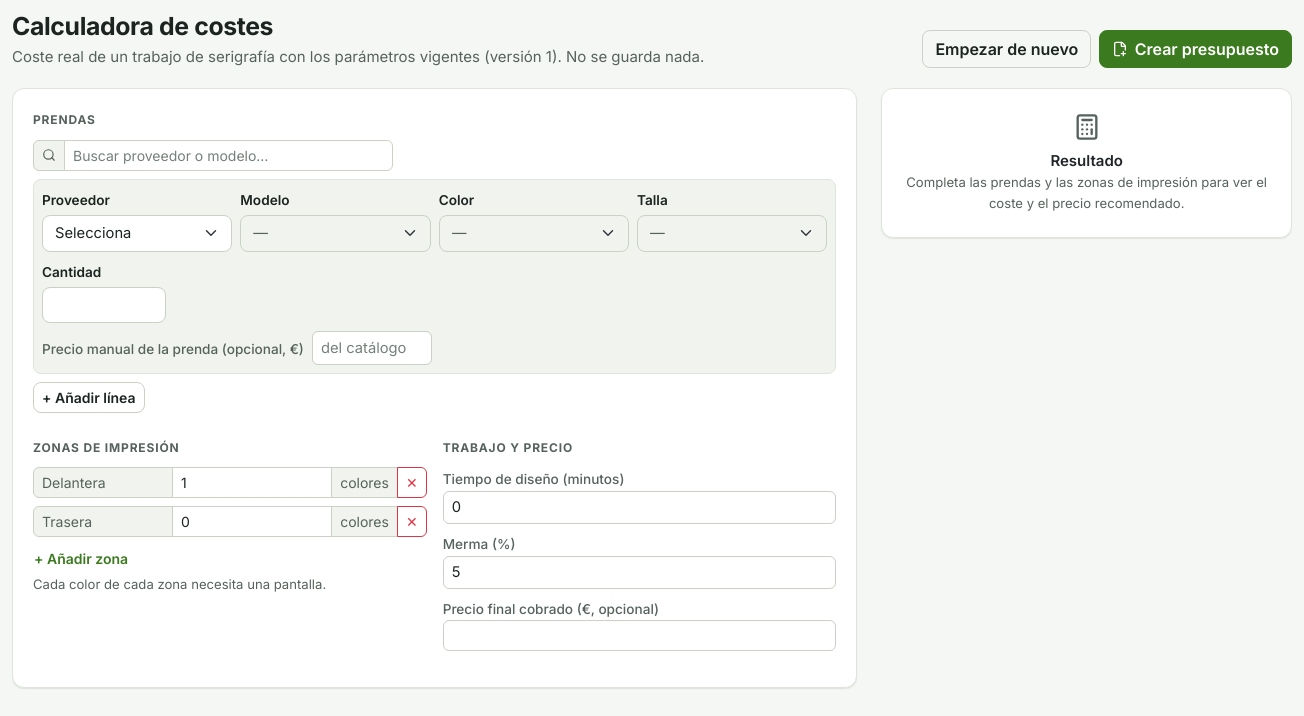
it: de la calculadora a un presupuesto nuevo › con la calculadora vacía abre un presupuesto vacío, sin avisos
Expected: the text "versión 1" is shown, [12, 47, 704, 66]
Click the button "Crear presupuesto".
click(1196, 49)  # box [1099, 30, 1292, 68]
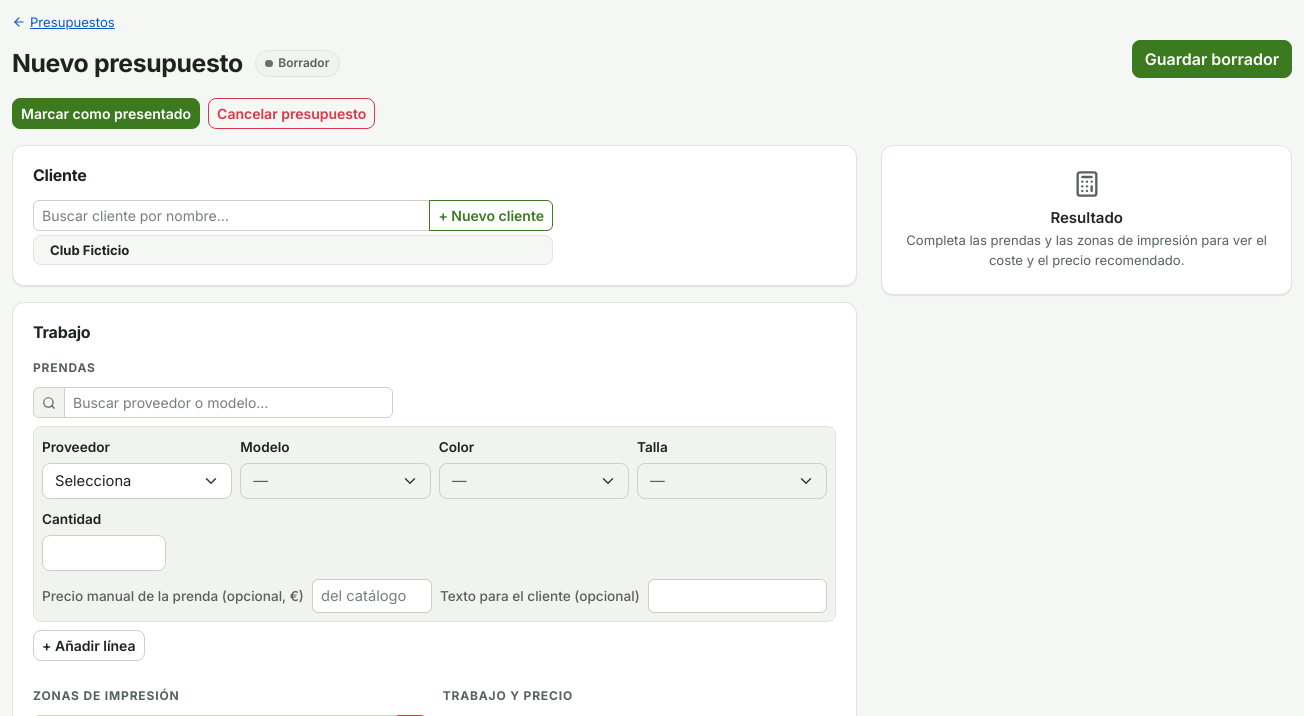
Expected: the heading "Nuevo presupuesto" is shown, [12, 49, 243, 78]
